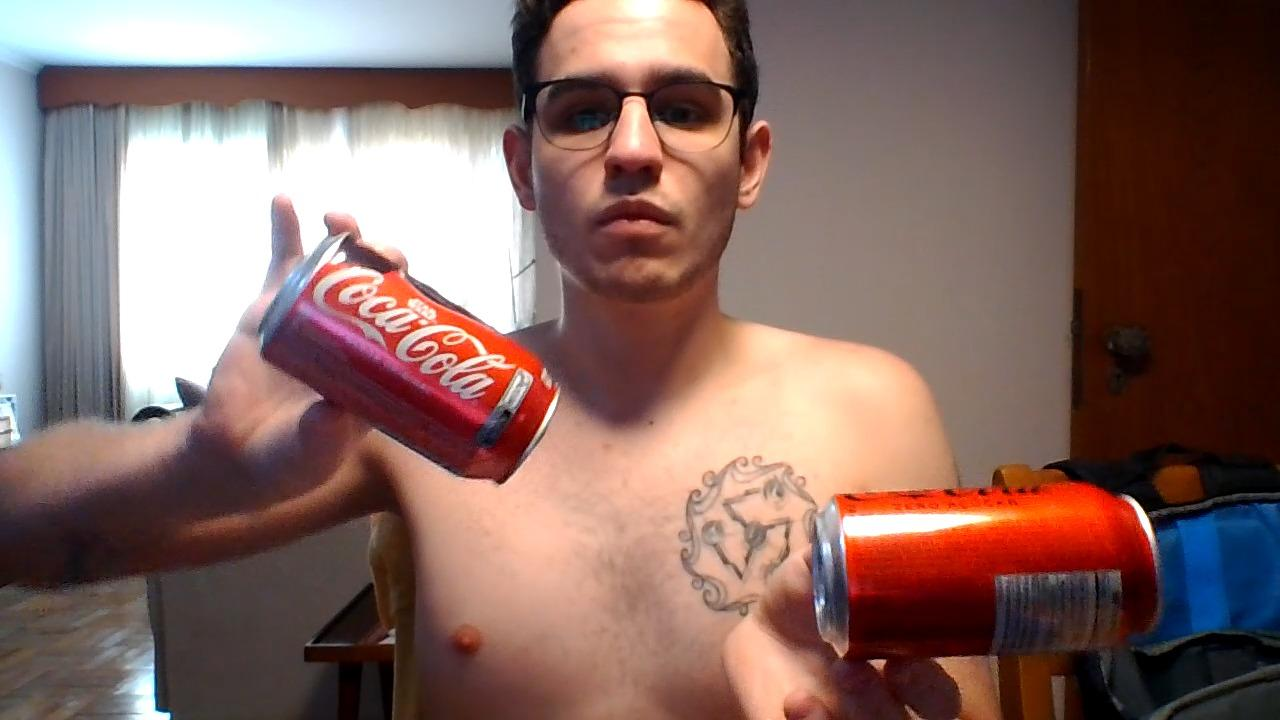coke: (263, 231, 567, 484), (814, 484, 1156, 657)
